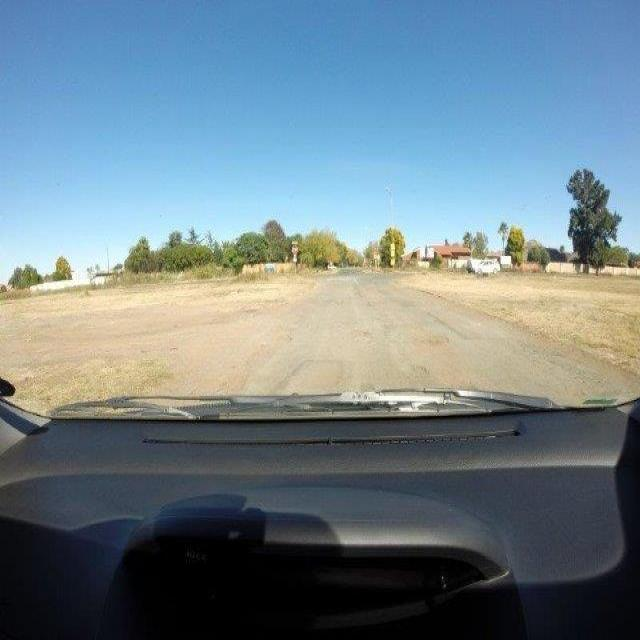jalan retak: (531, 343, 615, 396), (353, 323, 375, 346), (323, 291, 347, 312)
lubang: (413, 331, 451, 345), (410, 362, 434, 382)
